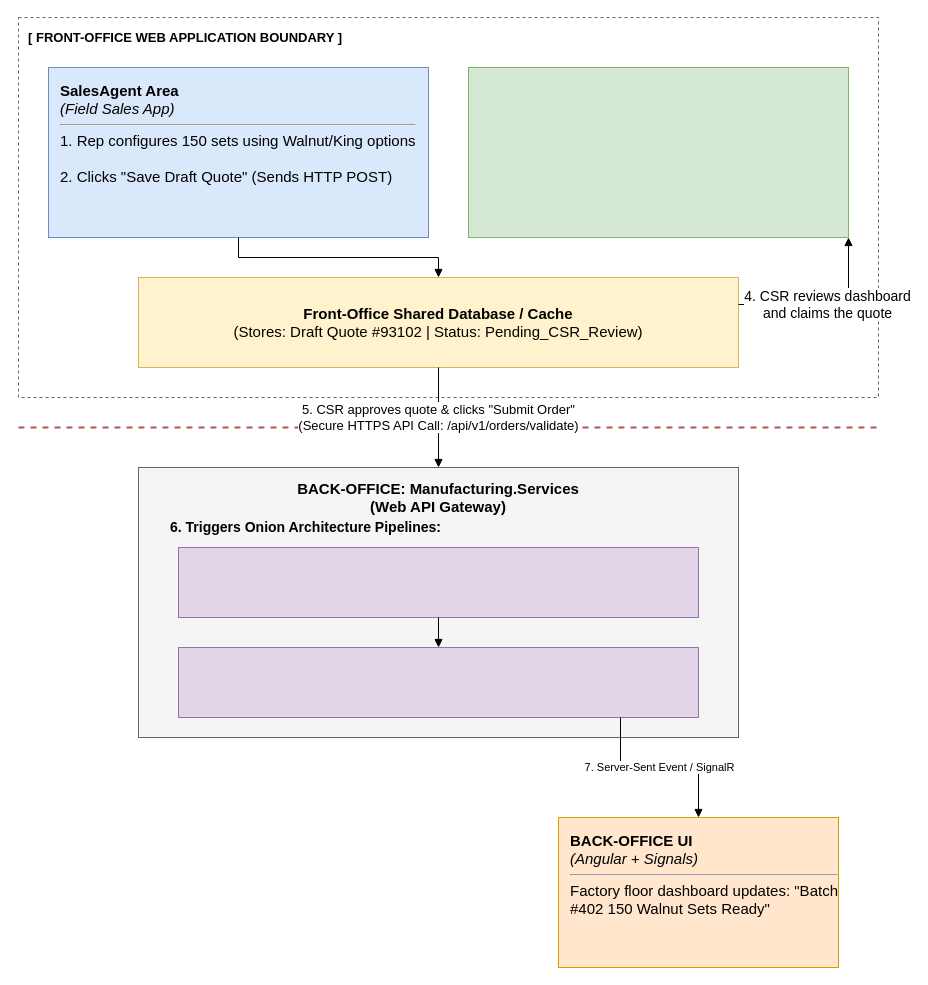
Image size: 928x985. Some labels were removed from this diagram. Here are the shapes that lost their labels. From the top down, the centre of each, then its label:
(658,152): CustomerService Area (Desktop Dashboard)
(438,582): Core Domain: Run Credit Check & BOM Capacity Validation
(438,682): Infrastructure: Commit to ERP/Db (Status: Scheduled)
